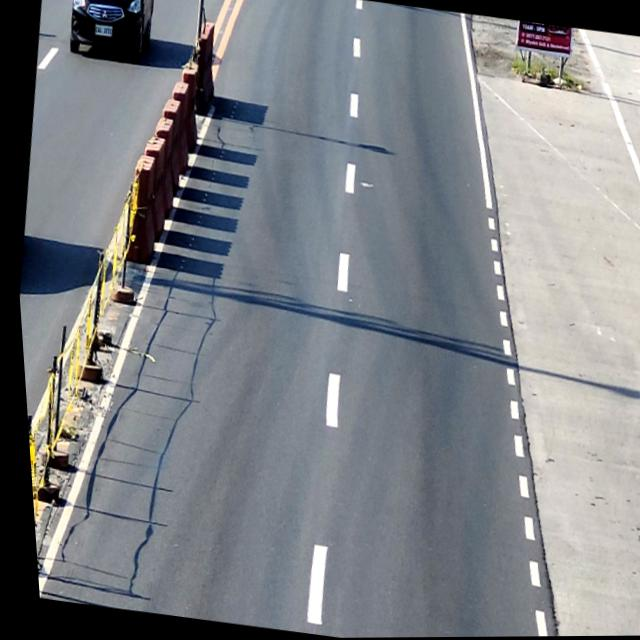Car: (61, 0, 161, 64)
License-Plate: (94, 24, 114, 39)
